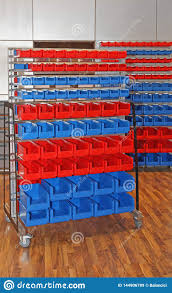Carts: (2, 102, 172, 249)
